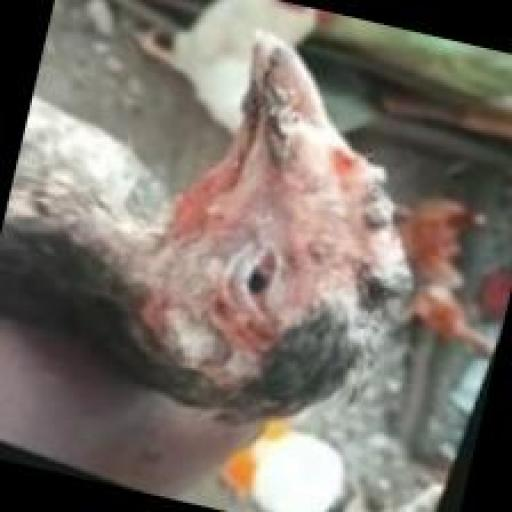disease: (71, 20, 416, 440)
